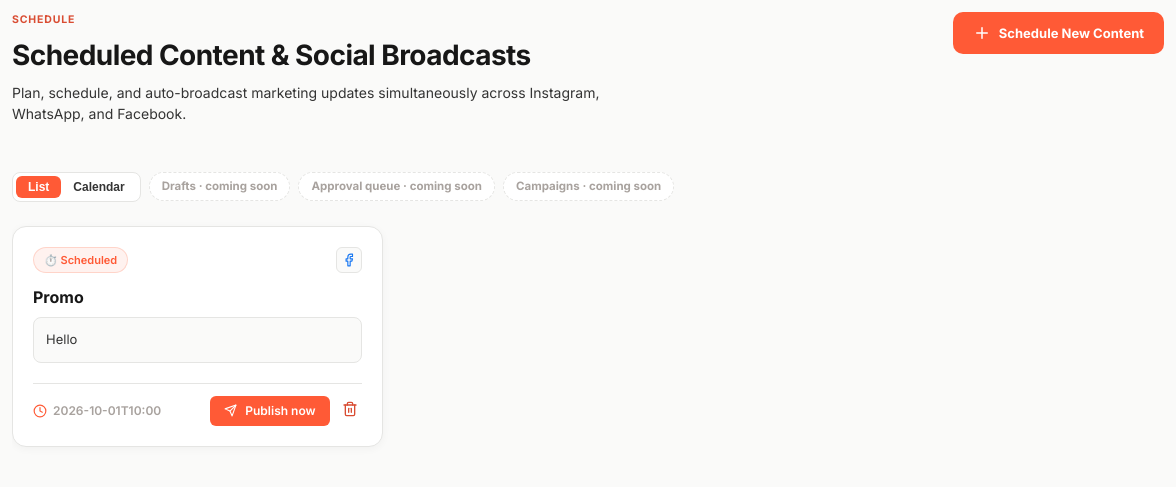
Scheduler › publish-now posts to the backend endpoint and marks the row
Step 1. Click the button "Publish now" → click(270, 411), box [210, 396, 330, 426]
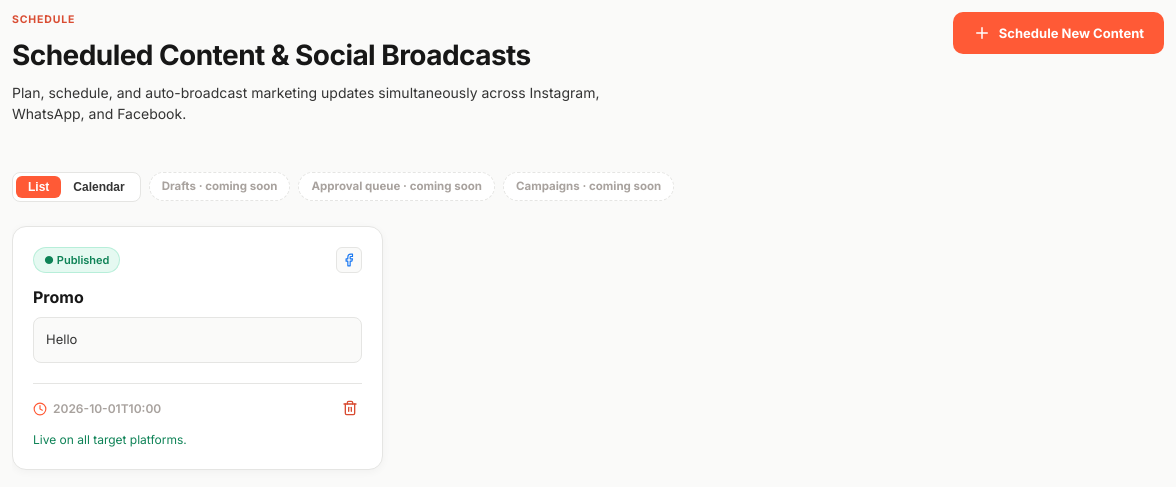
Now the text "Live on all target platforms." is shown, box [33, 432, 187, 447]
Now the button "Publish now" is gone
Now the text "● Published" is shown, box [33, 247, 120, 273]
